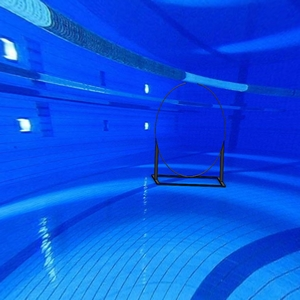circle: (149, 80, 229, 191)
